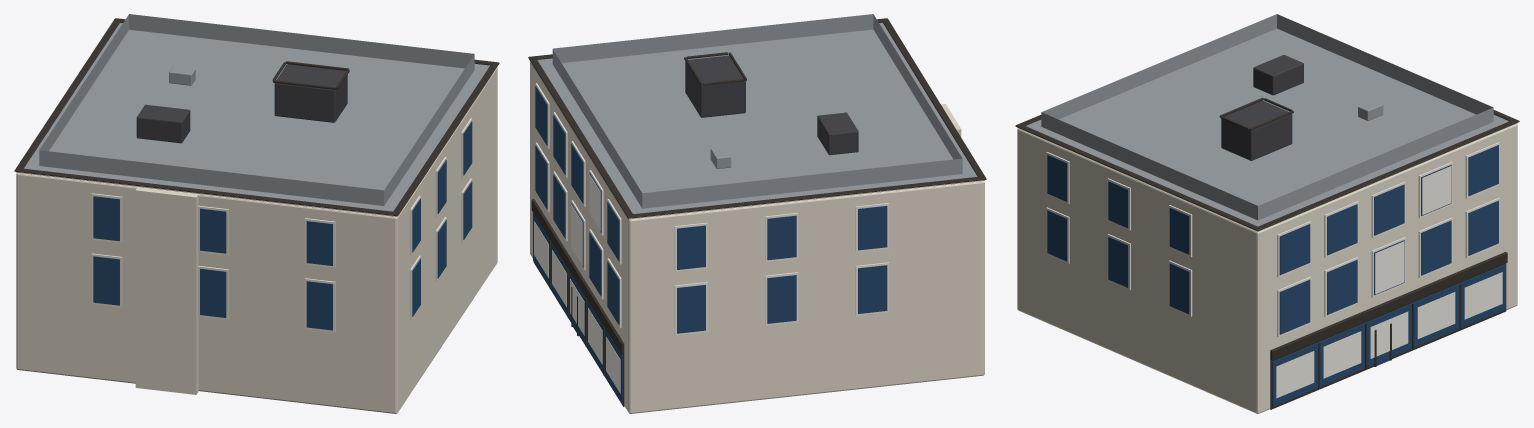
The model's file is out_joinonly.glb.
3 renders of one model, left to right at view 1: azimuth 30°, elevation 25°; view 2: azimuth 150°, elevation 25°; view 3: azimuth 270°, elevation 25°, orthographic. The views are drawn at different scales.
Visible parts, largest first — view 1: grp_Toy_sand, grp_Toy_steel, grp_Toy_glass, grp_Toy_roofd, grp_Toy_ink, grp_Toy_trim; view 2: grp_Toy_sand, grp_Toy_steel, grp_Toy_glass, grp_Toy_ink, grp_Toy_trim, grp_Toy_roofd, grp_Toy_white_Glow; view 3: grp_Toy_sand, grp_Toy_steel, grp_Toy_glass, grp_Toy_white_Glow, grp_Toy_ink, grp_Toy_trim, grp_Toy_roofd.
Boxes of the visible parts, x1,y1,x2,y2 form: grp_Toy_sand: (16, 67, 497, 413); grp_Toy_steel: (24, 14, 489, 211); grp_Toy_glass: (93, 121, 472, 330); grp_Toy_roofd: (136, 64, 347, 143); grp_Toy_ink: (14, 18, 499, 216); grp_Toy_trim: (91, 118, 472, 332); grp_Toy_sand: (530, 61, 984, 413); grp_Toy_steel: (537, 14, 977, 213); grp_Toy_glass: (533, 86, 887, 403); grp_Toy_ink: (528, 18, 986, 406); grp_Toy_trim: (535, 83, 889, 335); grp_Toy_roofd: (685, 55, 858, 155); grp_Toy_white_Glow: (534, 174, 620, 393); grp_Toy_sand: (1017, 123, 1517, 413); grp_Toy_steel: (1026, 14, 1508, 226); grp_Toy_glass: (1047, 145, 1505, 406); grp_Toy_white_Glow: (1276, 166, 1502, 398); grp_Toy_ink: (1015, 97, 1519, 409); grp_Toy_trim: (1046, 142, 1499, 336); grp_Toy_roofd: (1221, 55, 1303, 160).
Bounding box in the file's own units: 34.7 × 16.4 × 34.54.
